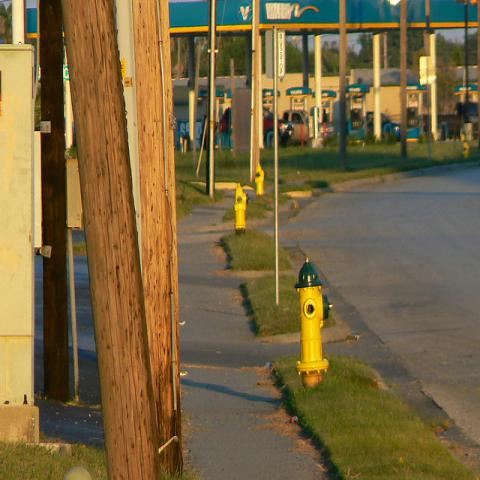car: (279, 109, 335, 144), (366, 111, 400, 136)
truck: (219, 104, 294, 146), (437, 101, 479, 138), (283, 109, 309, 142)
